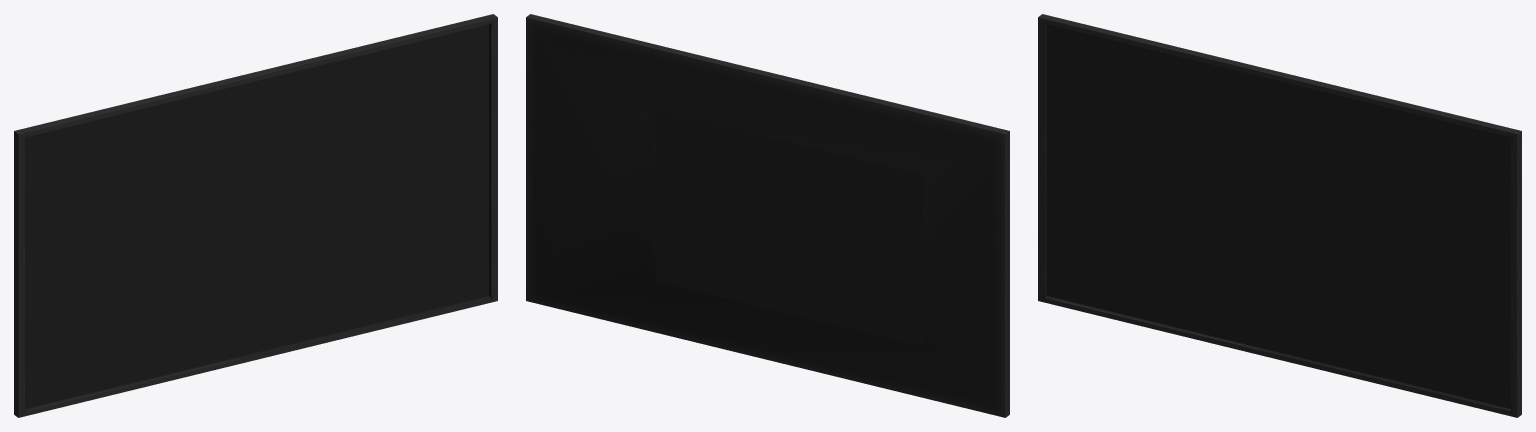
3 renders of one model, left to right at view 1: azimuth 30°, elevation 25°; view 2: azimuth 150°, elevation 25°; view 3: azimuth 330°, elevation 25°, orthographic.
Parts seen in each view (by area): view 1: TV; view 2: TV; view 3: TV.
Part boxes in pixels (x1,y1,x2,y2): TV: (14, 14, 497, 417); TV: (526, 14, 1009, 417); TV: (1038, 14, 1521, 417).
Size of the model in its own units: 242 by 137 by 8.45.
1 material, 1 textured.
